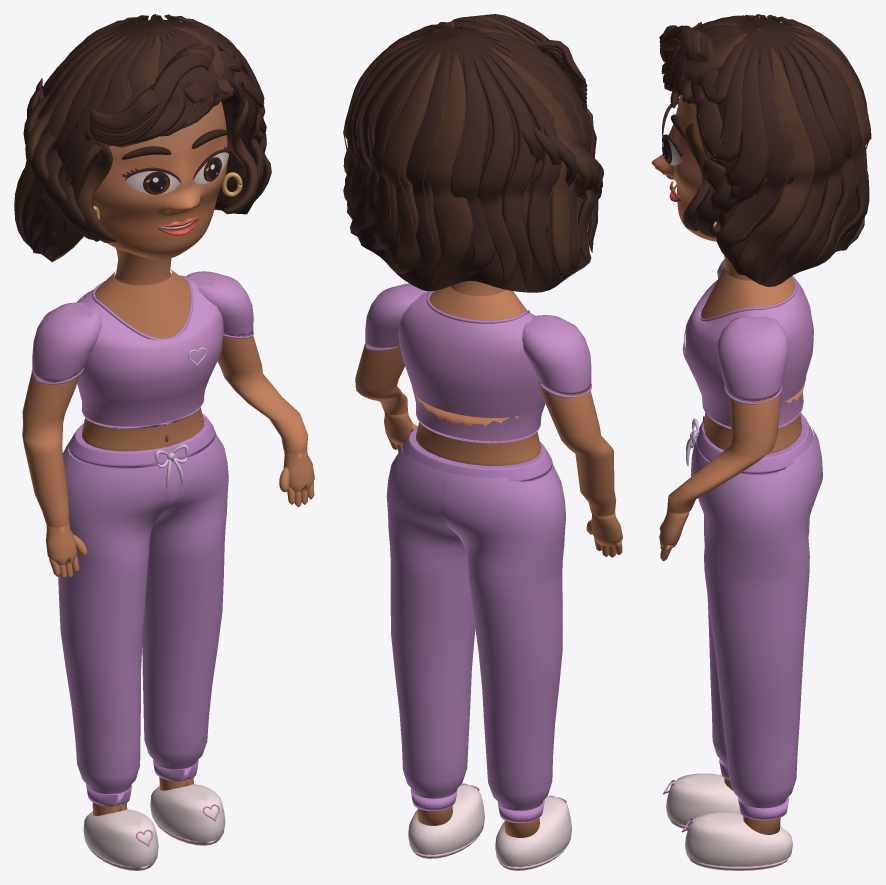
File: giovanna.glb
The picture shows the model from 3 angles, left to right: view 1: azimuth 30°, elevation 25°; view 2: azimuth 150°, elevation 25°; view 3: azimuth 270°, elevation 25°; orthographic projection. The views are drawn at different scales.
Parts seen in each view (by area): view 1: Giovanna, Head, Torso, ArmR, ForearmR, ArmL, ForearmL, EyeR, EyeL; view 2: Giovanna, Head, Torso, ArmR, ArmL, ForearmR, ForearmL; view 3: Head, Giovanna, Torso, ArmL, ForearmL, EyeL.
Part boxes in pixels (x1,y1,x2,y2): Giovanna: (58,413,228,870); Head: (14,14,271,262); Torso: (76,247,223,451); ArmR: (22,302,101,432); ForearmR: (22,424,87,578); ArmL: (186,271,263,383); ForearmL: (225,374,314,506); EyeR: (122,167,180,194); EyeL: (192,146,233,184); Giovanna: (386,427,571,870); Head: (343,14,603,292); Torso: (398,281,545,465); ArmR: (522,315,601,446); ArmL: (355,283,430,396); ForearmR: (564,436,622,557); ForearmL: (359,386,417,452); Head: (651,14,871,286); Giovanna: (663,413,822,870); Torso: (682,255,813,454); ArmL: (717,315,789,455); ForearmL: (659,445,769,561); EyeL: (662,134,683,165).
Bounding box in the file's own units: 0.67 × 2.02 × 0.4894.
